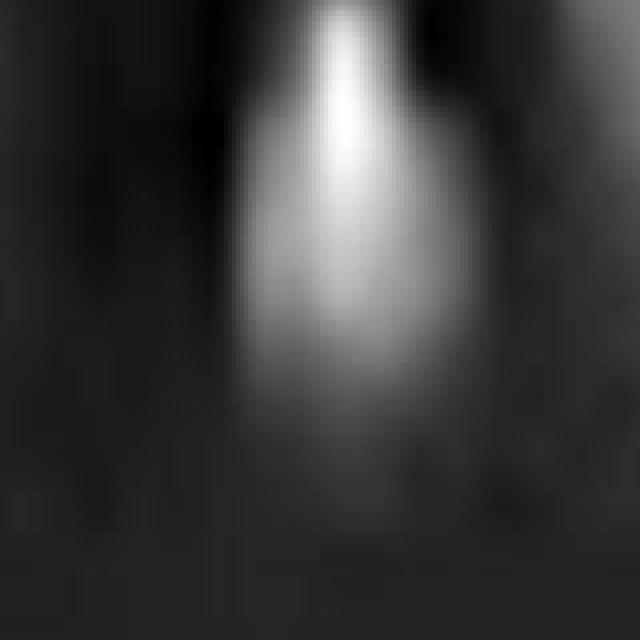person: (249, 1, 485, 476), (549, 1, 640, 310)
